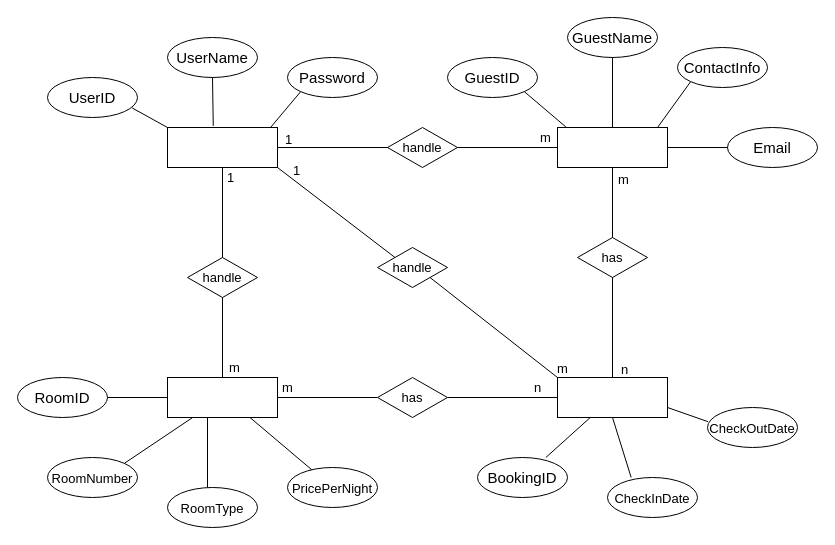
Image size: 835x545. Some labels were removed from this diagram. The shapes that lost their labels are listed below. From the top down, each one's centre as x and y in pixels, then its label:
point (222, 147): User
point (612, 147): Guest
point (222, 397): Room
point (612, 397): Booking
